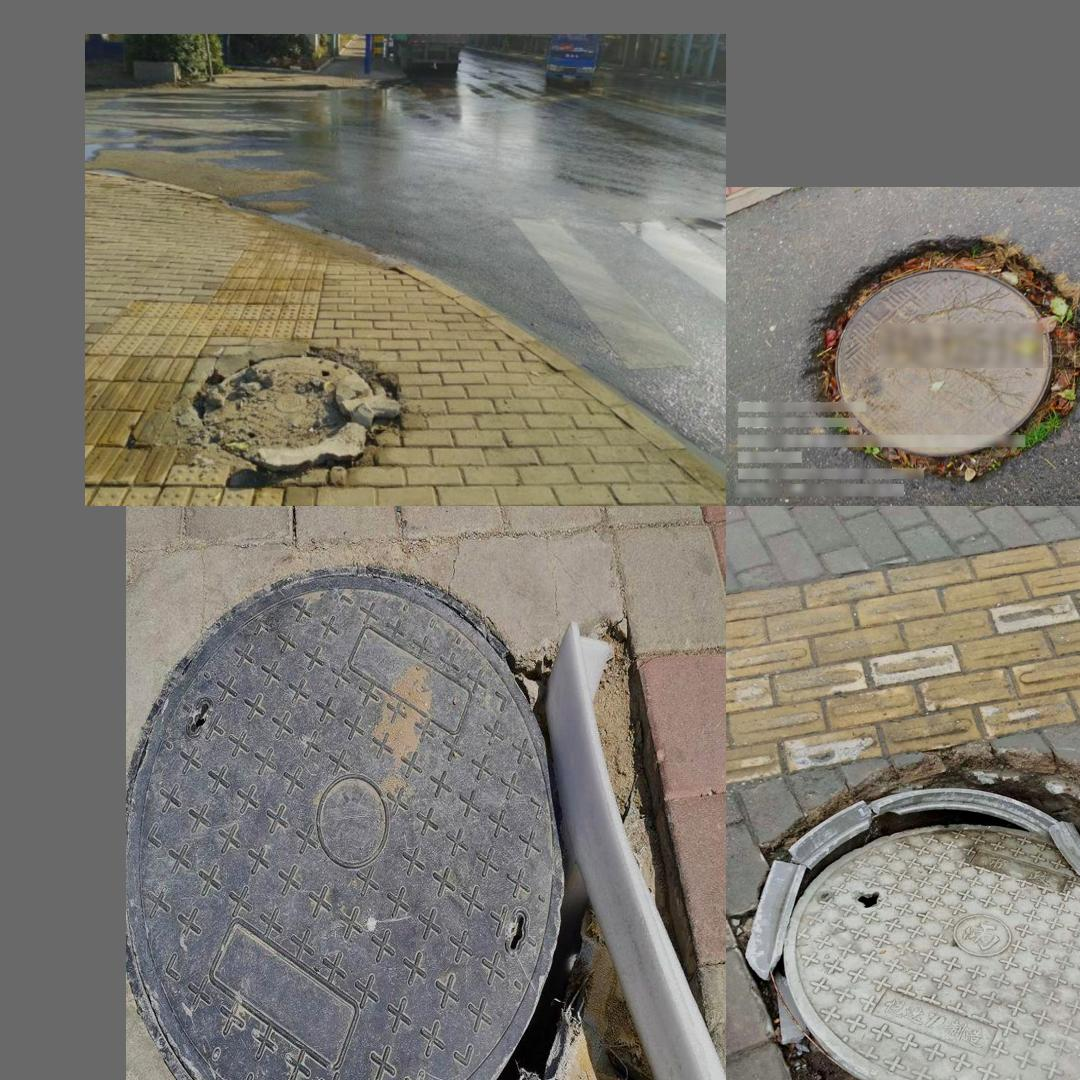circle: (136, 570, 679, 1080), (733, 749, 1080, 1080), (800, 238, 1080, 478), (168, 332, 402, 476)
